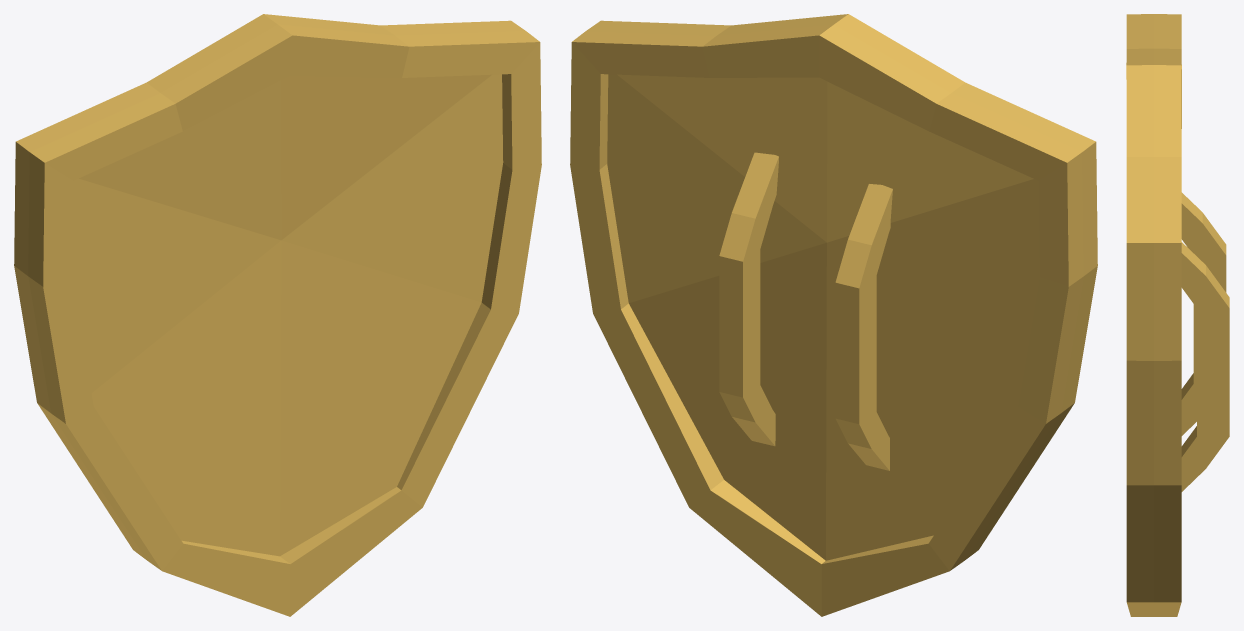
File: escudo_low.fbx
3 views of the same model, side by side, from view 1: azimuth 30°, elevation 25°; view 2: azimuth 150°, elevation 25°; view 3: azimuth 270°, elevation 25° (orthographic). The views are drawn at different scales.
Parts seen in each view (by area): view 1: escudo_low; view 2: escudo_low; view 3: escudo_low.
Boxes of the visible parts, <box> form: escudo_low: <box>14,14,541,616</box>; escudo_low: <box>570,14,1097,616</box>; escudo_low: <box>1126,14,1229,616</box>.
Size of the model in its own units: 2147 by 2396 by 406.
